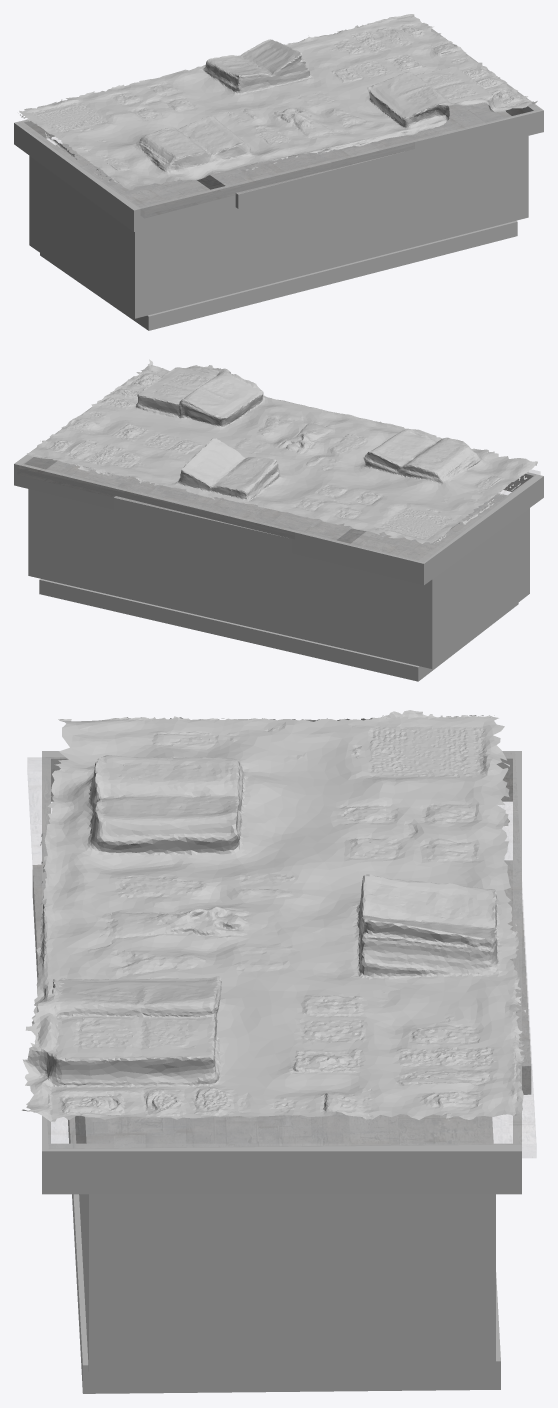
The model's file is dej dej1.fbx.
3 renders of one model, top to bottom at view 1: azimuth 30°, elevation 25°; view 2: azimuth 150°, elevation 25°; view 3: azimuth 270°, elevation 25°, orthographic. The views are drawn at different scales.
Parts seen in each view (by area): view 1: housing, Mesh_0, top, basis, epoxy resin, travertine; view 2: Mesh_0, housing, top, basis, epoxy resin, travertine; view 3: Mesh_0, housing, top, epoxy resin, basis, travertine.
Part boxes in pixels (left/top/right/bottom): housing: left=29, top=103, right=528, bottom=318; Mesh_0: left=18, top=14, right=537, bottom=190; top: left=14, top=23, right=543, bottom=231; basis: left=40, top=220, right=517, bottom=330; epoxy resin: left=32, top=103, right=526, bottom=217; travertine: left=197, top=129, right=436, bottom=208; Mesh_0: left=27, top=359, right=537, bottom=543; housing: left=28, top=460, right=529, bottom=668; top: left=14, top=376, right=543, bottom=585; basis: left=39, top=579, right=518, bottom=681; epoxy resin: left=18, top=459, right=539, bottom=559; travertine: left=113, top=479, right=366, bottom=552; Mesh_0: left=22, top=710, right=527, bottom=1121; housing: left=75, top=1112, right=495, bottom=1377; top: left=42, top=751, right=521, bottom=1194; epoxy resin: left=28, top=757, right=535, bottom=1157; basis: left=67, top=1117, right=500, bottom=1393; travertine: left=32, top=860, right=531, bottom=1094.
Bounding box in the file's own units: 151 × 57.87 × 81.35.
